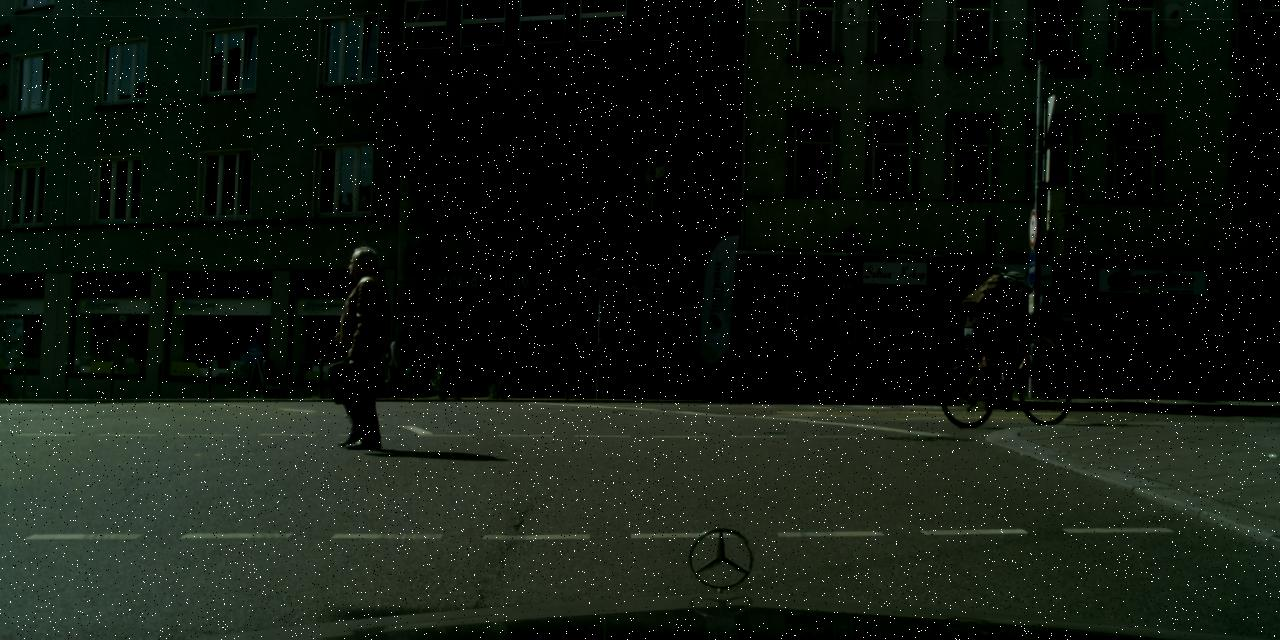ped: (323, 246, 405, 446), (979, 272, 1030, 397), (384, 332, 424, 402)
